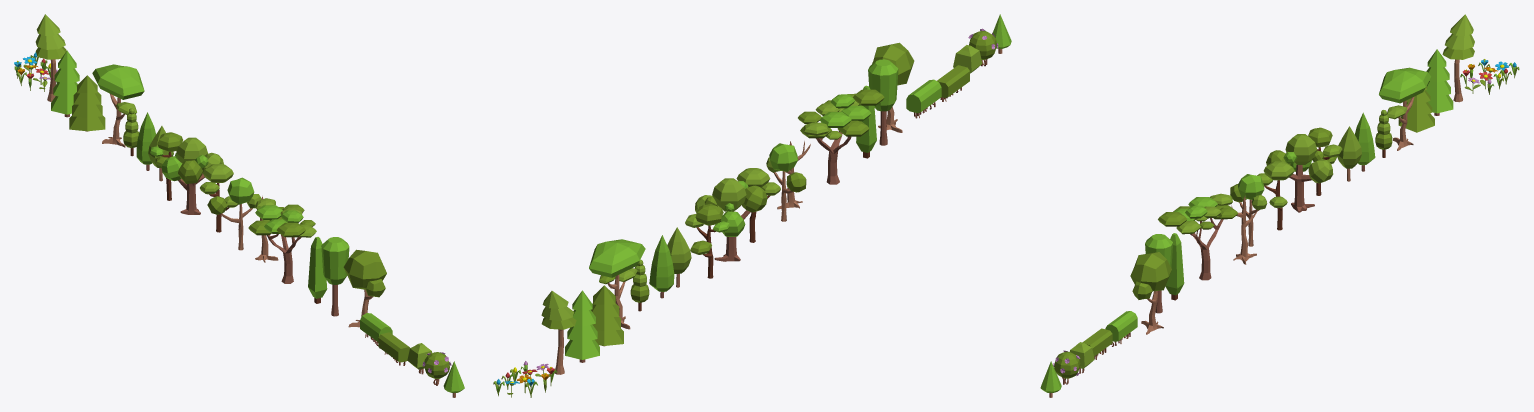
The model's file is ModTrees01.fbx.
3 renders of one model, left to right at view 1: azimuth 30°, elevation 25°; view 2: azimuth 150°, elevation 25°; view 3: azimuth 330°, elevation 25°, orthographic. The views are drawn at different scales.
Visible parts, largest first — view 1: tree_03, tree_09, tree_15, tree_01, tree_04, tree_02, tree_07, tree_05, tree_16, tree_06, tree_08, tree_10 (+7 smaller); view 2: tree_03, tree_09, tree_15, tree_05, tree_02, tree_04, tree_07, tree_10, tree_16, tree_01, tree_13, bush_01 (+7 smaller); view 3: tree_03, tree_09, tree_15, tree_01, tree_16, tree_05, tree_07, tree_06, tree_04, tree_08, tree_12, tree_10 (+8 smaller).
Part boxes in pixels (<box>): tree_03: <box>248,198,316,283</box>; tree_09: <box>162,137,223,214</box>; tree_15: <box>92,64,144,147</box>; tree_01: <box>343,249,386,327</box>; tree_04: <box>69,75,105,131</box>; tree_02: <box>321,237,349,316</box>; tree_07: <box>207,177,261,250</box>; tree_05: <box>51,50,79,117</box>; tree_16: <box>35,14,66,101</box>; tree_06: <box>200,164,238,232</box>; tree_08: <box>308,237,327,303</box>; tree_10: <box>150,132,182,200</box>; tree_03: <box>798,89,884,184</box>; tree_09: <box>695,178,767,261</box>; tree_15: <box>589,239,645,329</box>; tree_05: <box>565,290,599,362</box>; tree_02: <box>868,59,898,145</box>; tree_04: <box>591,285,623,346</box>; tree_07: <box>766,143,806,221</box>; tree_10: <box>685,204,730,278</box>; tree_16: <box>541,291,576,374</box>; tree_01: <box>872,42,914,132</box>; tree_13: <box>649,235,674,298</box>; bush_01: <box>906,79,941,118</box>; tree_03: <box>1158,193,1238,280</box>; tree_09: <box>1266,134,1333,212</box>; tree_15: <box>1379,67,1430,150</box>; tree_01: <box>1130,252,1171,334</box>; tree_16: <box>1442,14,1474,102</box>; tree_05: <box>1426,49,1453,115</box>; tree_07: <box>1230,174,1267,246</box>; tree_06: <box>1257,161,1294,230</box>; tree_04: <box>1398,86,1434,132</box>; tree_08: <box>1165,233,1184,300</box>; tree_12: <box>1337,126,1361,181</box>; tree_10: <box>1308,127,1342,195</box>.
Bounding box in the file's own units: 8.08 × 9.55 × 91.47.
